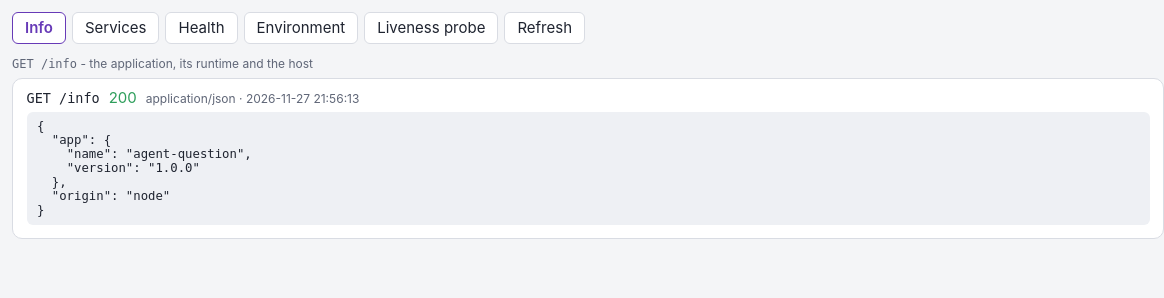
Actuator › opens on /info and reads another endpoint when picked
Expected: the element with test id "actuator-result" shows "GET /info", [12,78,1163,239]
Expected: the element with test id "actuator-result" shows "200", [109,88,137,107]
What coordinates should you click on to do the following:
click the button "Services"
I would click on:
 (116, 28)
Its box is [72,12,159,44].
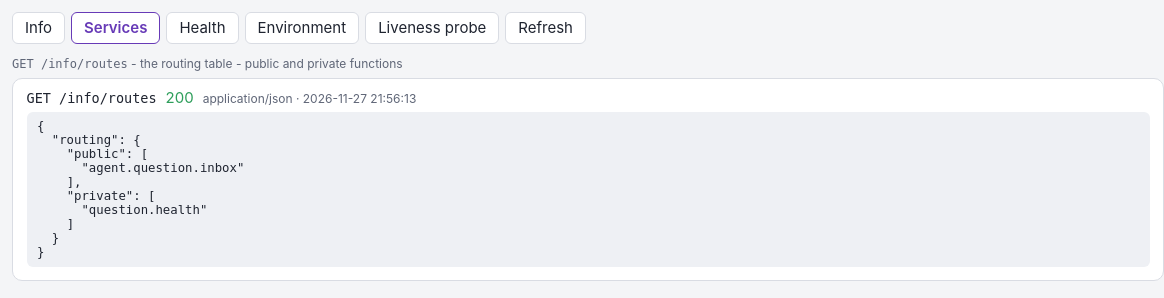
Now the element with test id "actuator-result" shows "GET /info/routes"
Now the text "agent.question.inbox" is shown, box [37,119,244,259]
What coordinates should you click on to do the following:
click the button "Liveness probe"
I would click on:
 (432, 28)
Its box is [365,12,499,44].
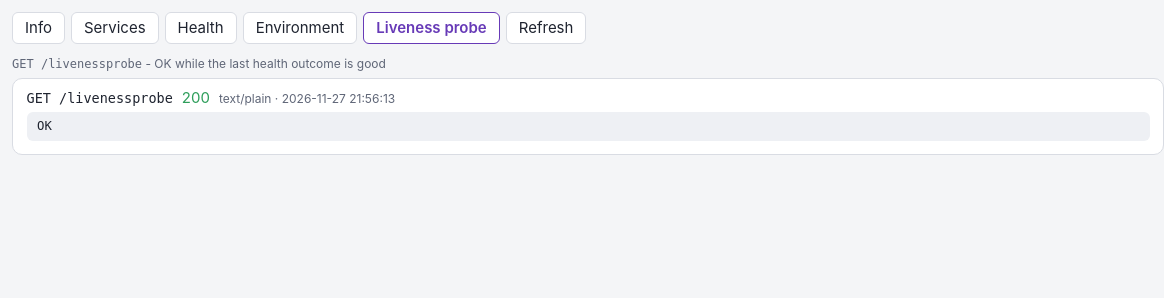
Now the element with test id "actuator-result" shows "GET /livenessprobe", box [12,78,1163,155]
Now the text "OK" is shown, box [26,112,1150,140]
Now the element with test id "actuator-result" shows "text/plain", box [219,91,272,106]
